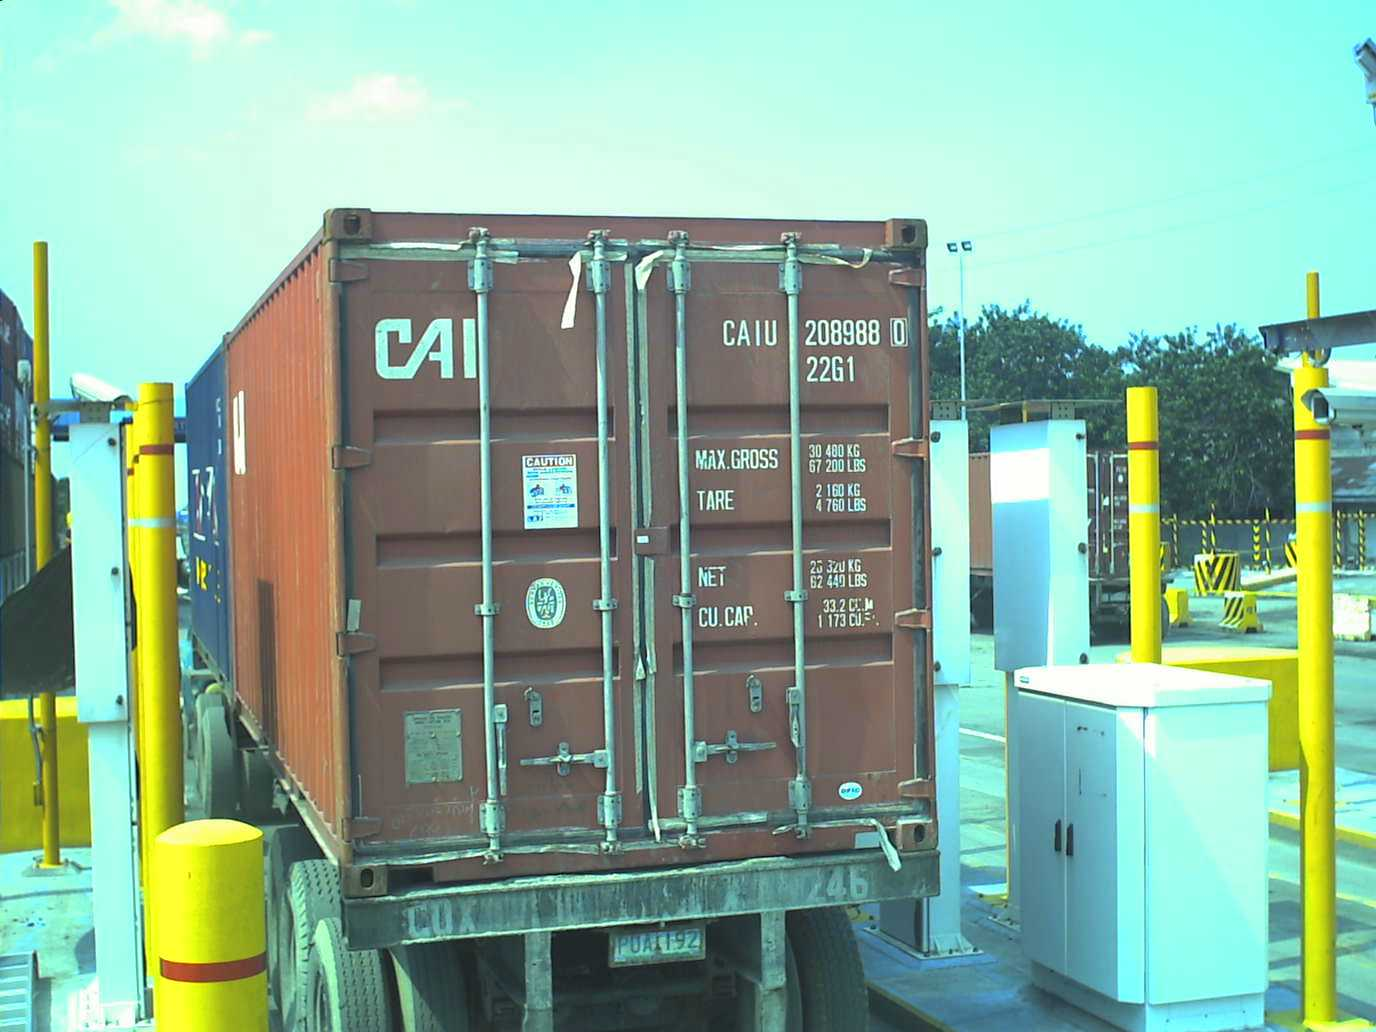container_door: (309, 170, 938, 867)
